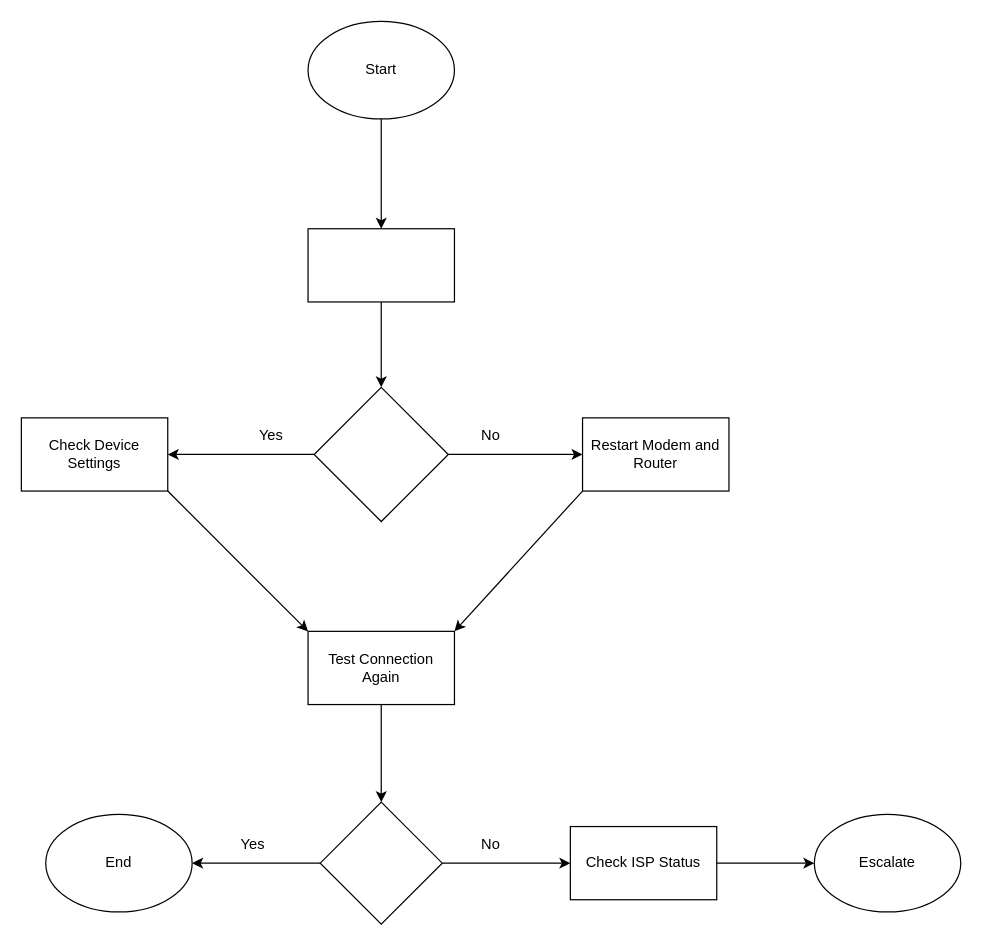
This 982x946 diagram has some shape labels left out. Each missing label, with the centre of its shape:
"Is Only One Device Affected?" belongs at point 380,454.
"Is The Issue Resolved?" belongs at point 380,862.
"Test Multiple Devices" belongs at point 380,265.
